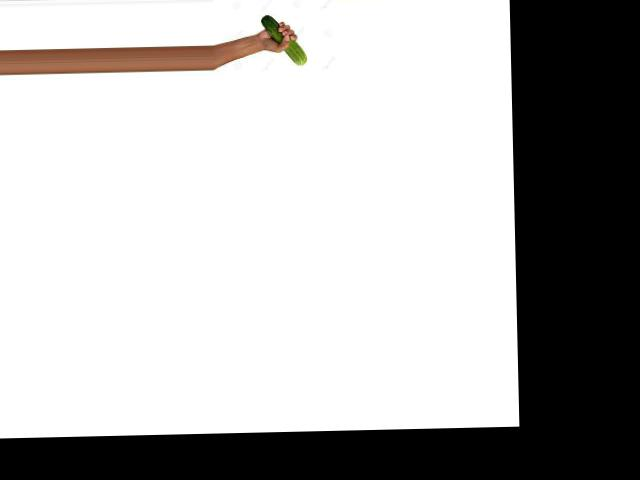cucumber: (259, 13, 306, 65)
